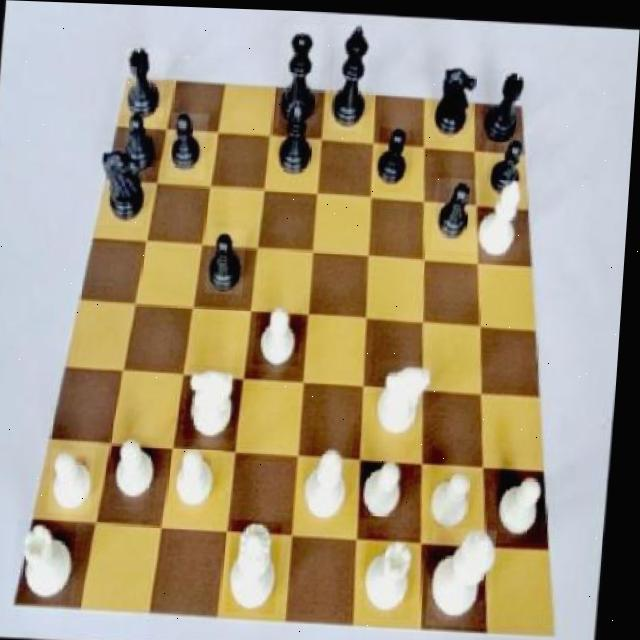bishop: (276, 99, 317, 178)
black-bishop: (329, 20, 371, 128)
black-king: (98, 145, 149, 224), (431, 62, 478, 137)
black-knight: (434, 173, 482, 248), (208, 225, 249, 293), (168, 111, 210, 177), (485, 136, 531, 196), (378, 125, 417, 191), (125, 108, 159, 173)
black-pawn: (277, 20, 325, 126)
black-queen: (482, 63, 531, 146), (122, 47, 169, 116)
black-rook: (478, 168, 529, 257), (307, 445, 360, 520)
white-bishop: (434, 523, 504, 624)
white-king: (376, 356, 436, 439), (188, 363, 245, 440)
white-knight: (431, 464, 485, 532), (502, 466, 552, 538), (115, 433, 165, 505), (175, 446, 229, 506), (53, 449, 101, 514), (363, 456, 413, 516), (258, 305, 307, 363)
white-pawn: (234, 517, 290, 612)
white-queen: (19, 520, 84, 605), (367, 539, 423, 618)
